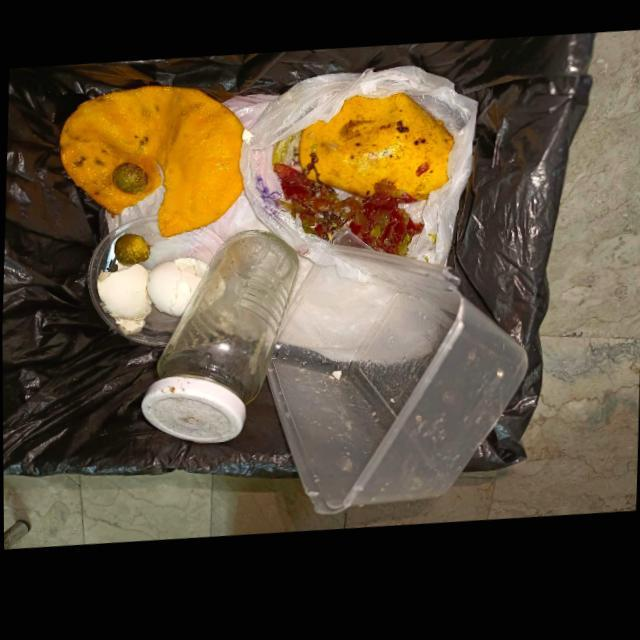biowaste: (58, 87, 244, 241), (299, 100, 454, 208), (273, 157, 424, 264), (96, 264, 151, 337), (146, 261, 209, 320), (114, 235, 152, 268), (112, 164, 148, 197)
glass: (140, 233, 300, 447)
plastic: (266, 250, 528, 520), (224, 72, 478, 274)
